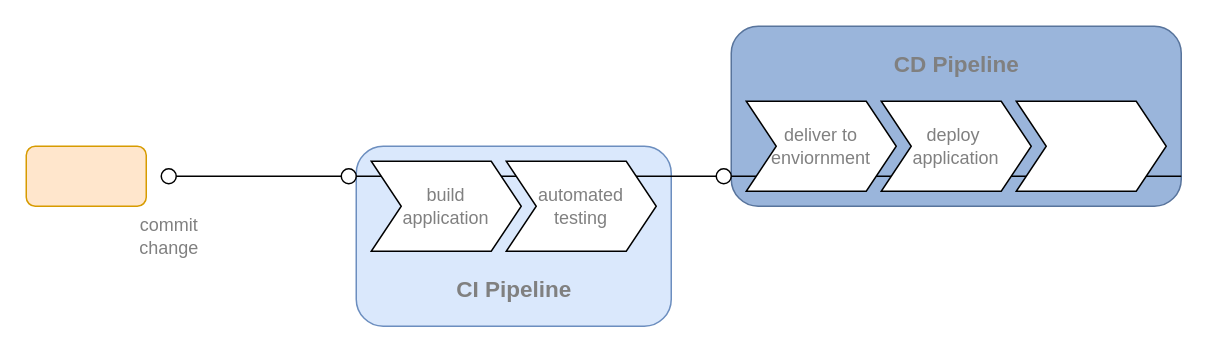
This 1209x353 diagram has some shape labels left out. Here are the shapes that lost their labels. From the top down, the box of each, then its label:
(1015, 100, 1166, 191): operate
(25, 145, 146, 206): Code
